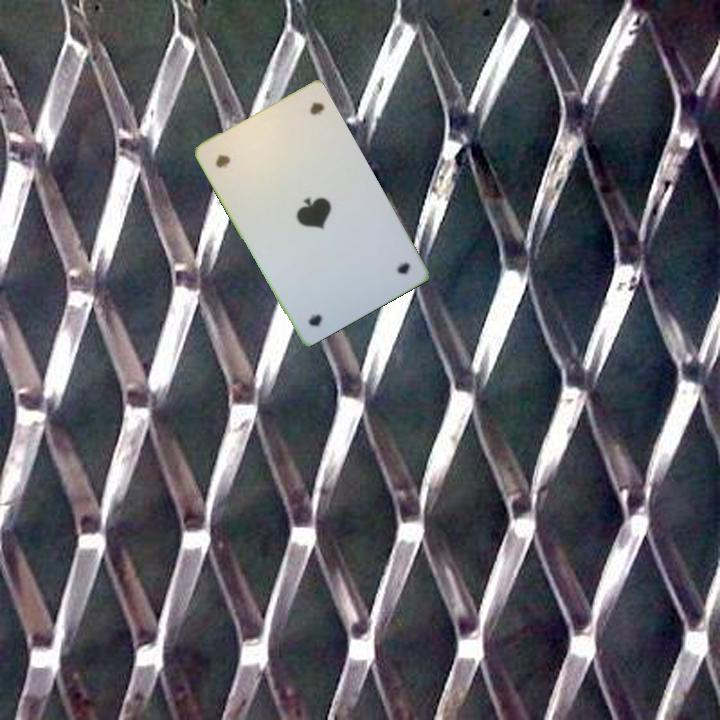s_a.png: (333, 224, 418, 305), (204, 120, 289, 201)
